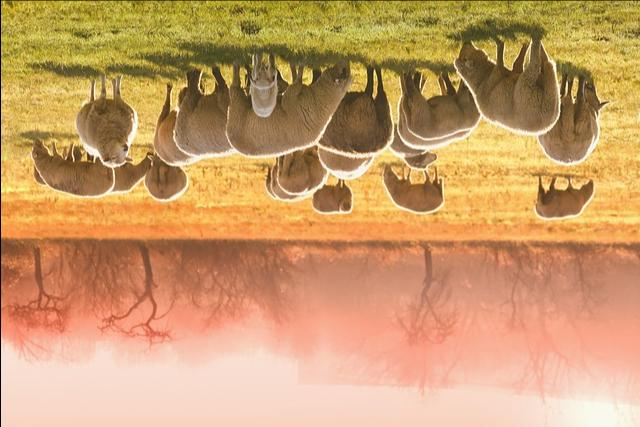Non_Gorille: (0, 24, 614, 250)
